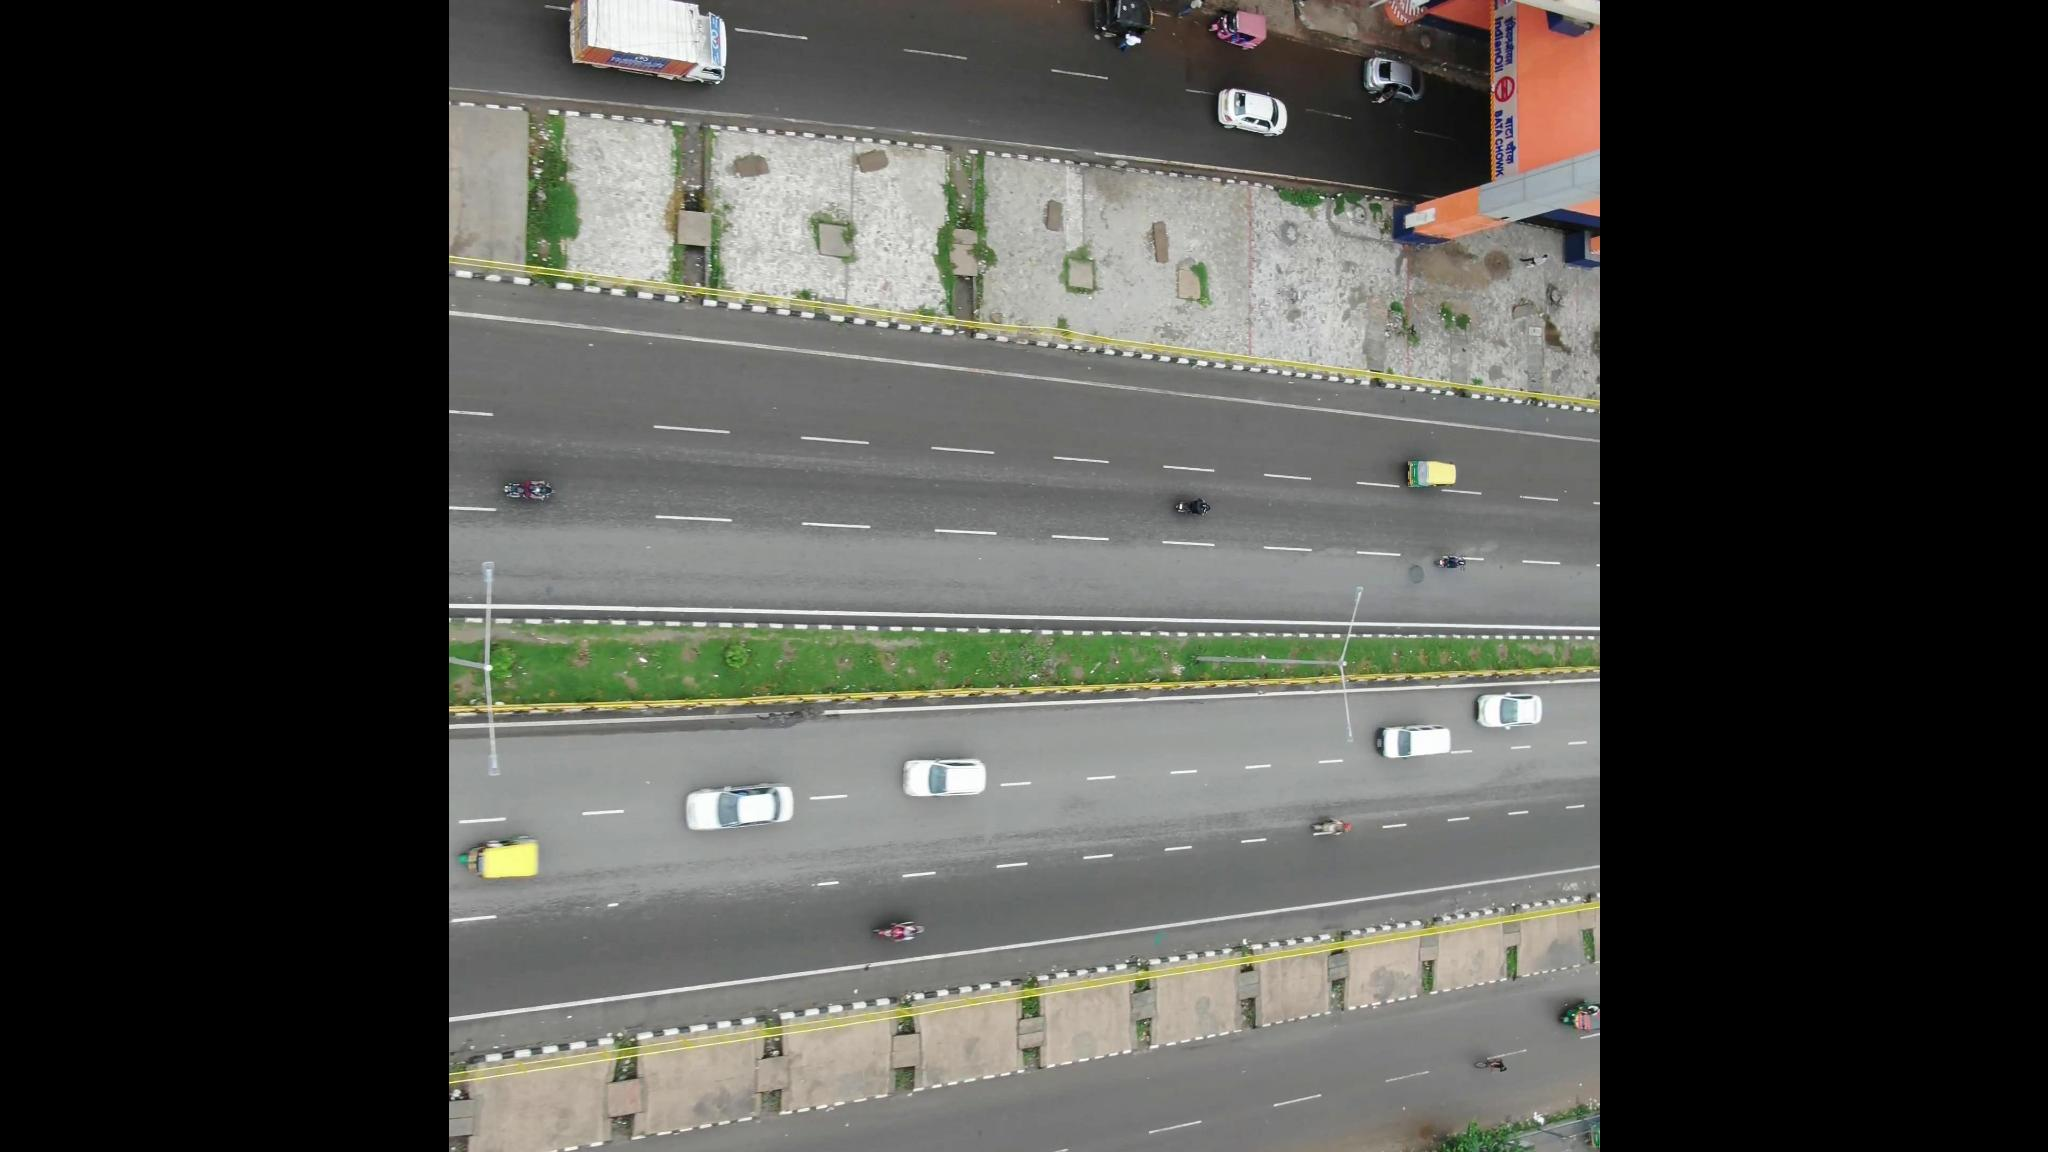Potholes: (1350, 556, 1439, 599)
